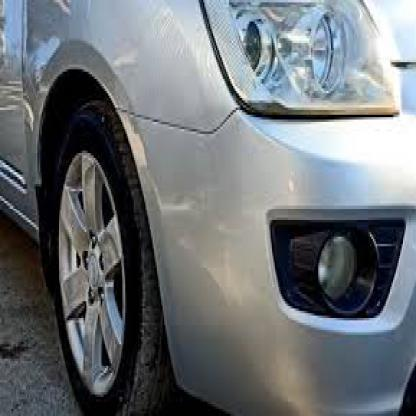dent: (154, 174, 199, 234)
